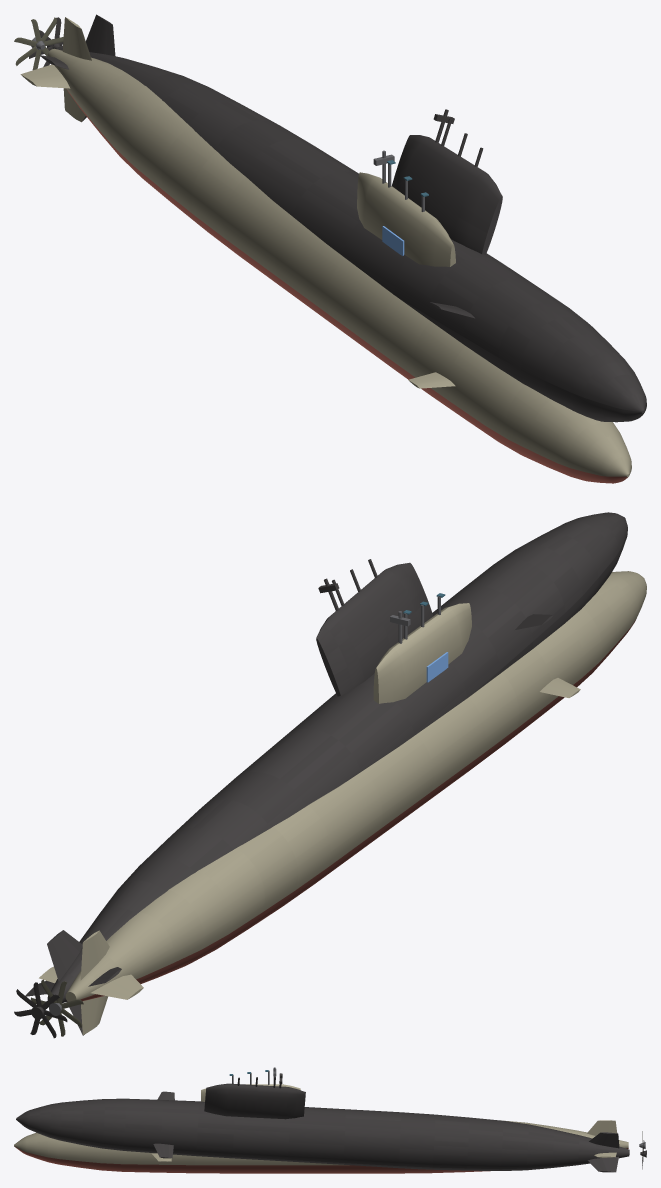
File: submarine__riachuelo_class.glb
3 renders of one model, top to bottom at view 1: azimuth 30°, elevation 25°; view 2: azimuth 150°, elevation 25°; view 3: azimuth 270°, elevation 25°, orthographic. The views are drawn at different scales.
Visible parts, largest first — view 1: Hull_Mesh, Wreck; view 2: Hull_Mesh, Wreck; view 3: Wreck, Hull_Mesh.
Part boxes in pixels (x1=…): Hull_Mesh: x1=14, y1=17, x2=631, y2=483; Wreck: x1=29, y1=14, x2=646, y2=422; Hull_Mesh: x1=30, y1=571, x2=646, y2=1036; Wreck: x1=14, y1=512, x2=627, y2=1038; Wreck: x1=16, y1=1073, x2=646, y2=1172; Hull_Mesh: x1=14, y1=1070, x2=645, y2=1173.
Size of what is drawn, in the model's own units: 10.88 by 13.92 by 69.84.
